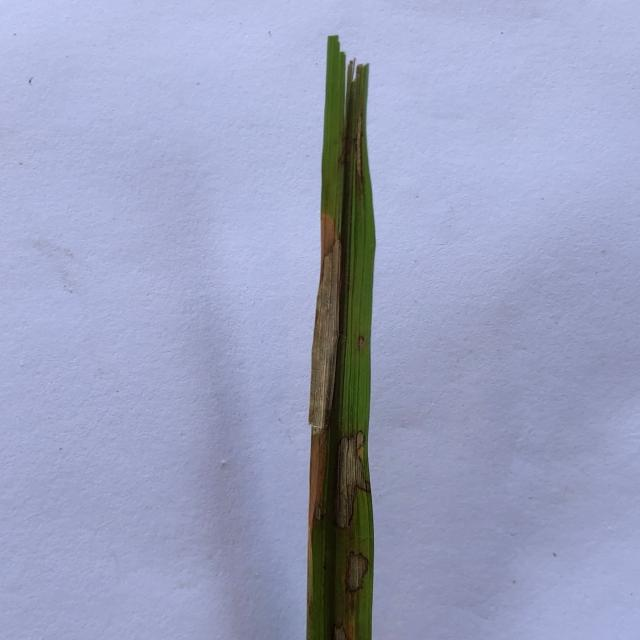Leaf Blight: (308, 215, 340, 604), (337, 432, 371, 530), (341, 114, 364, 185), (346, 552, 368, 597), (335, 618, 356, 640)
